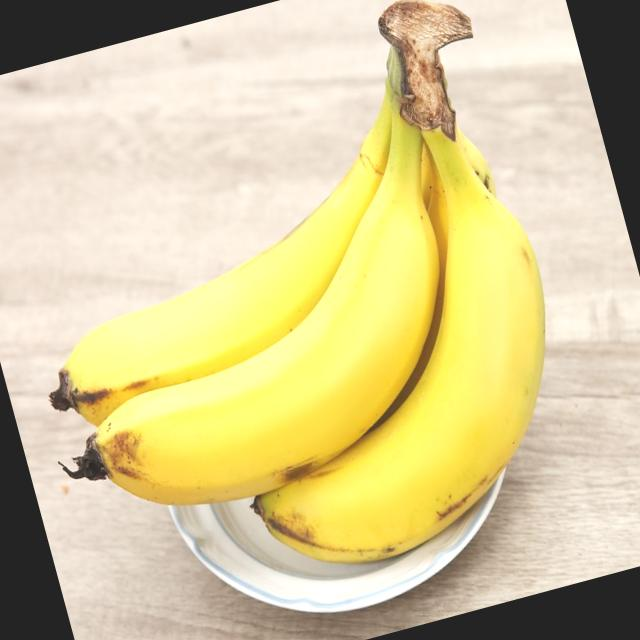chuoi: (49, 0, 544, 562)
